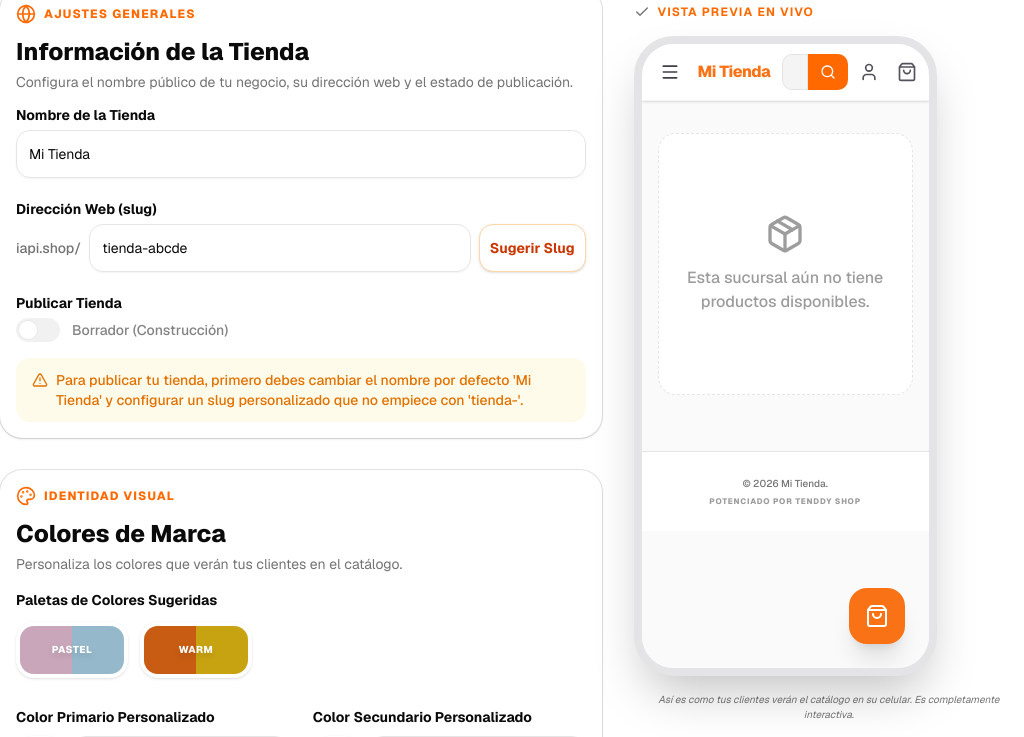
SettingsForm UI and client-side validation tests › correctly populates brand_color and secondary_color when a palette preset is clicked
Click the button titled "Warm". click: click(196, 650)
box: left=140, top=622, right=252, bottom=678
(page scrolled)
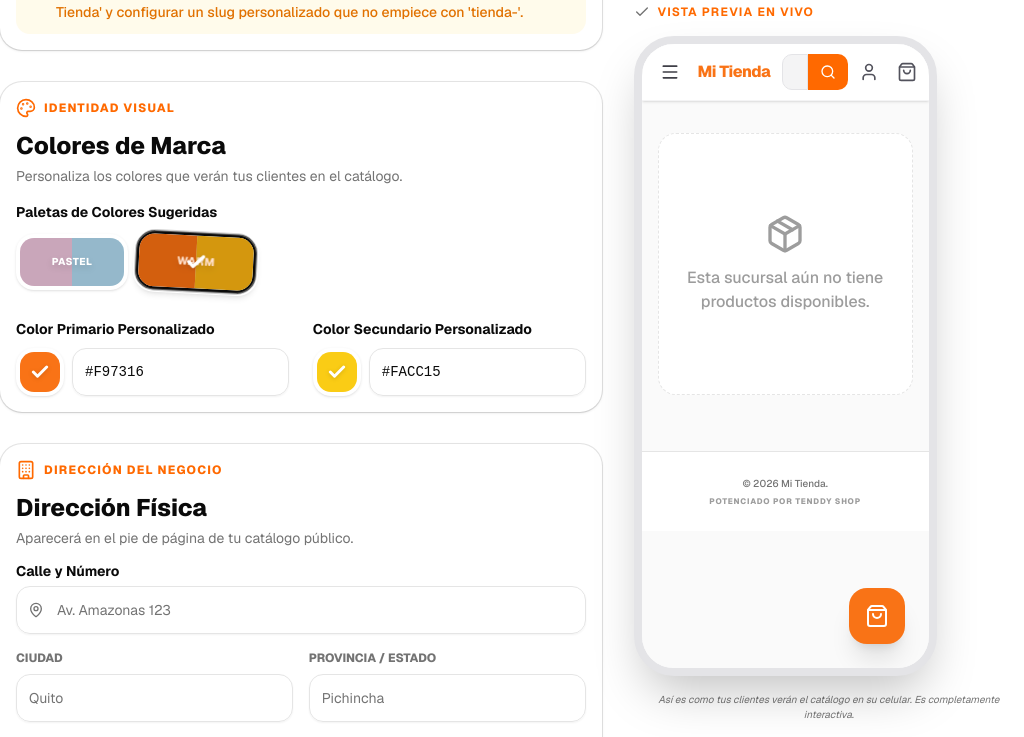
Expected: the field named "hex color primario" holds "#f97316", left=72, top=348, right=289, bottom=396
Expected: the field named "hex color secundario" holds "#facc15", left=369, top=348, right=586, bottom=396
